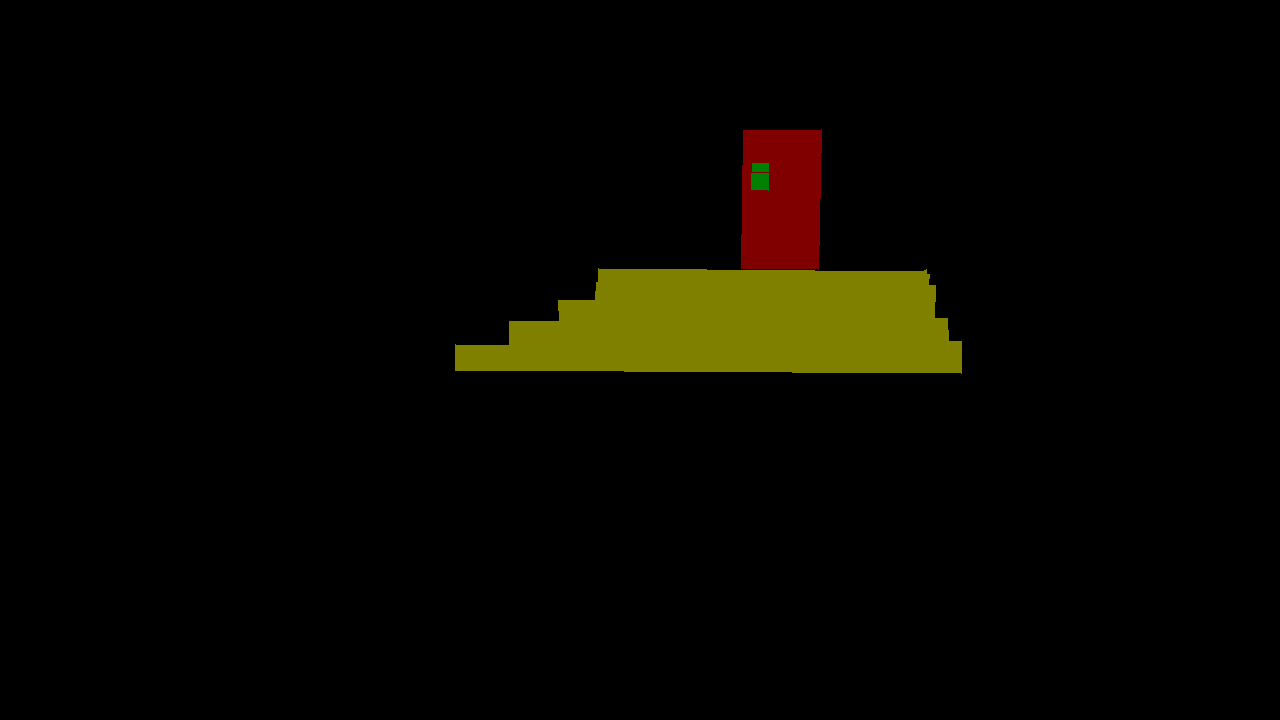door: (741, 129, 821, 269)
sign: (751, 173, 768, 190), (752, 163, 768, 171)
stair: (455, 268, 961, 373)
